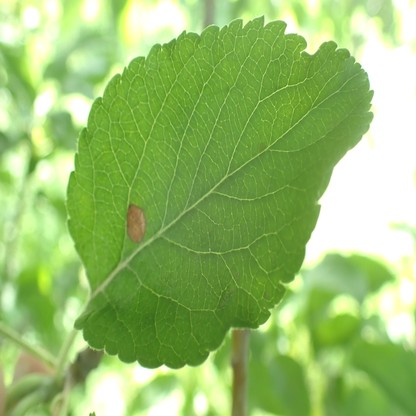frogeye_leaf_spot: (125, 202, 146, 244)
